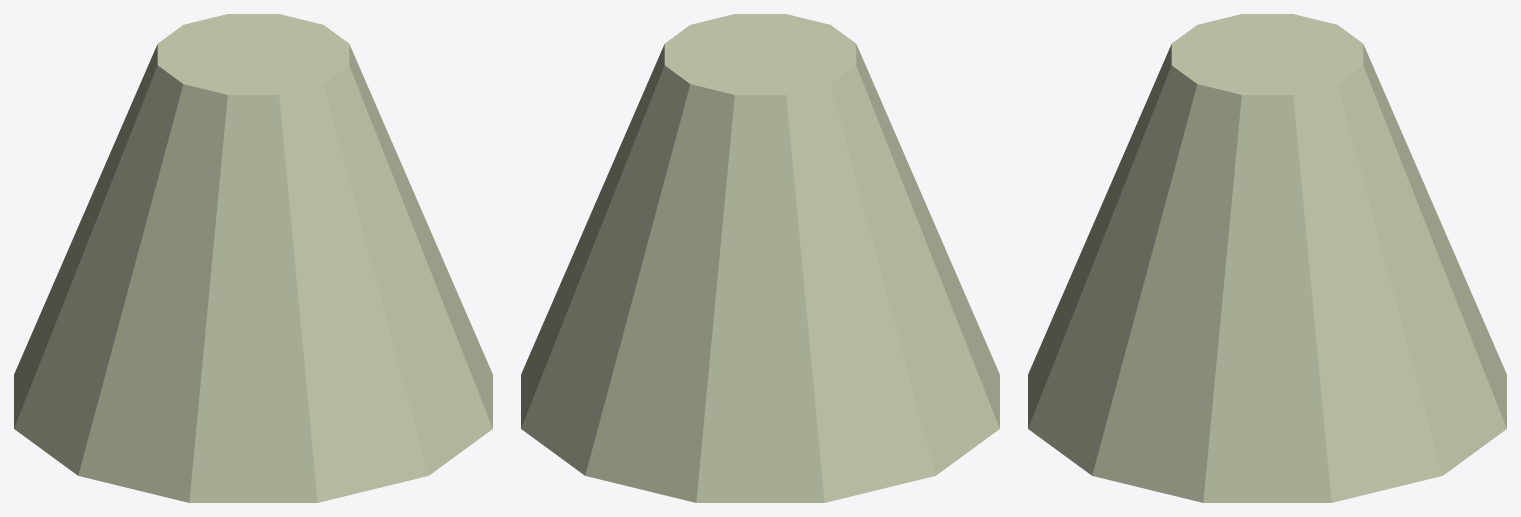
File: black_arrow_nose_cone_s0_1_collider.obj
The picture shows the model from 3 angles, left to right: view 1: azimuth 30°, elevation 25°; view 2: azimuth 150°, elevation 25°; view 3: azimuth 270°, elevation 25°; orthographic projection.
Parts seen in each view (by area): view 1: collider; view 2: collider; view 3: collider.
Part boxes in pixels (x1=…): collider: x1=14, y1=14, x2=492, y2=502; collider: x1=521, y1=14, x2=999, y2=502; collider: x1=1028, y1=14, x2=1506, y2=502.
Bounding box in the file's own units: 0.625 × 0.5 × 0.625.
